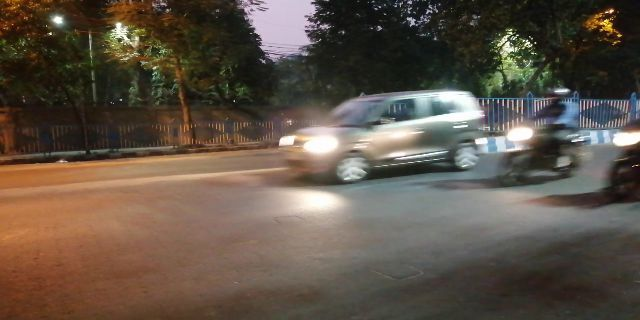Car: (277, 88, 488, 188)
Motorbike: (506, 89, 587, 185)
